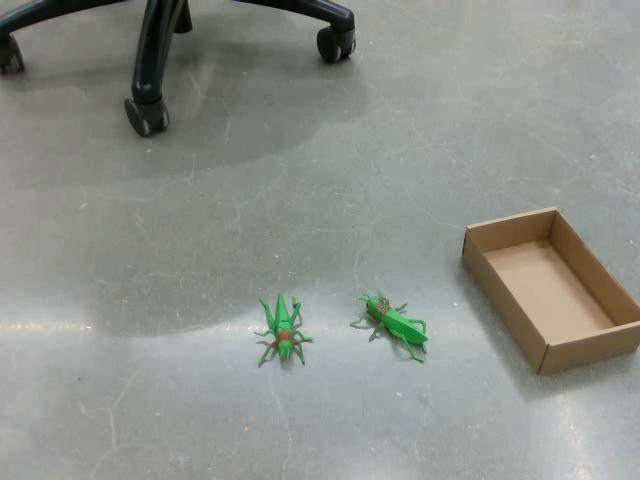box: (461, 206, 639, 376)
grasshopper: (349, 289, 429, 363), (253, 290, 313, 369)
